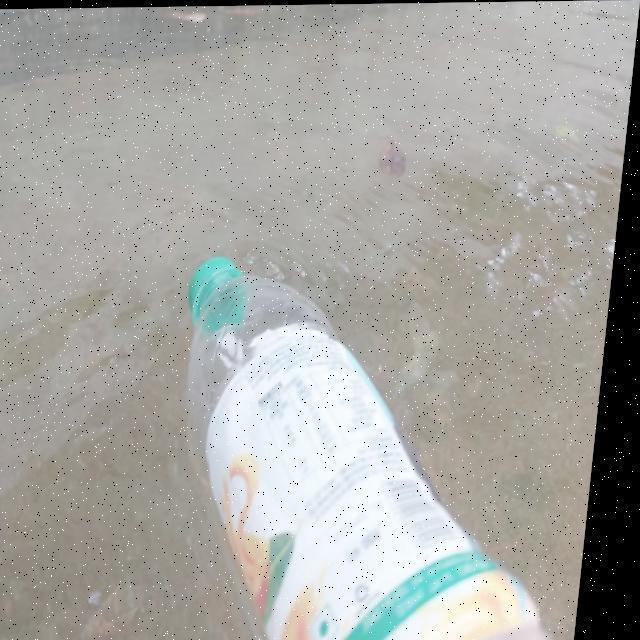Bottle: (183, 244, 556, 640)
